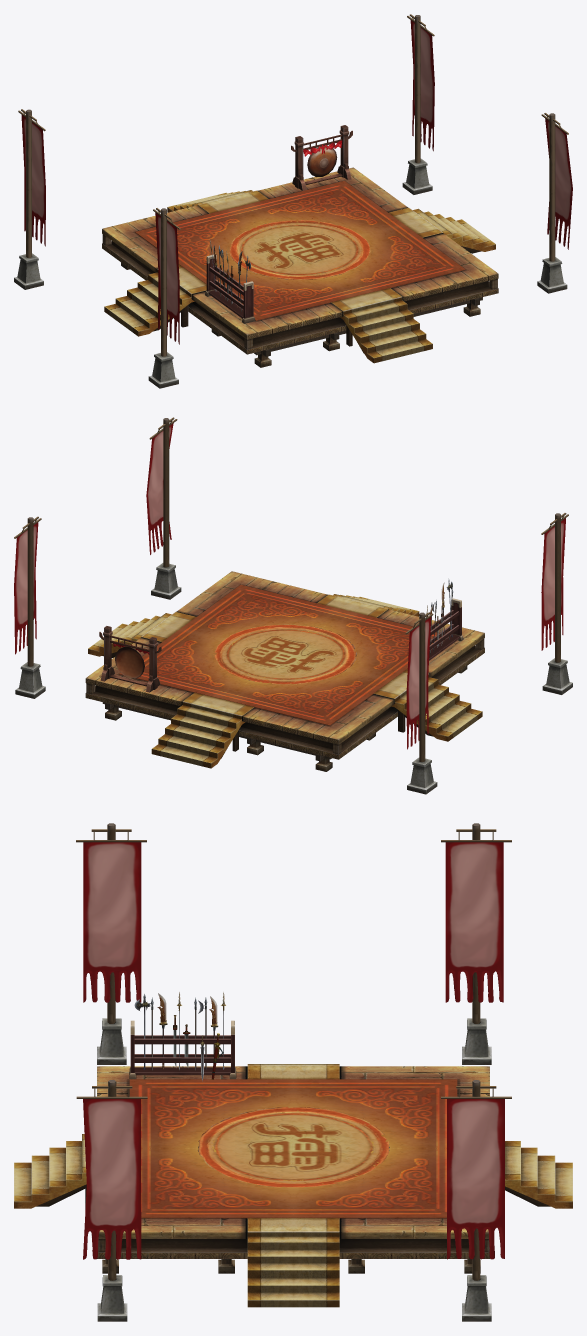
File: Ancient Chinese Arena.fbx
3 views of the same model, one above another, from view 1: azimuth 30°, elevation 25°; view 2: azimuth 150°, elevation 25°; view 3: azimuth 270°, elevation 25° (orthographic). The views are drawn at different scales.
Parts seen in each view (by area): view 1: Arena; view 2: Arena; view 3: Arena.
Boxes of the visible parts, <box> form: Arena: <box>14,14,572,388</box>; Arena: <box>14,417,572,794</box>; Arena: <box>14,823,572,1321</box>.
Size of the model in its own units: 85.34 by 35.61 by 74.56.
Materials: 2 (2 with a texture image).
